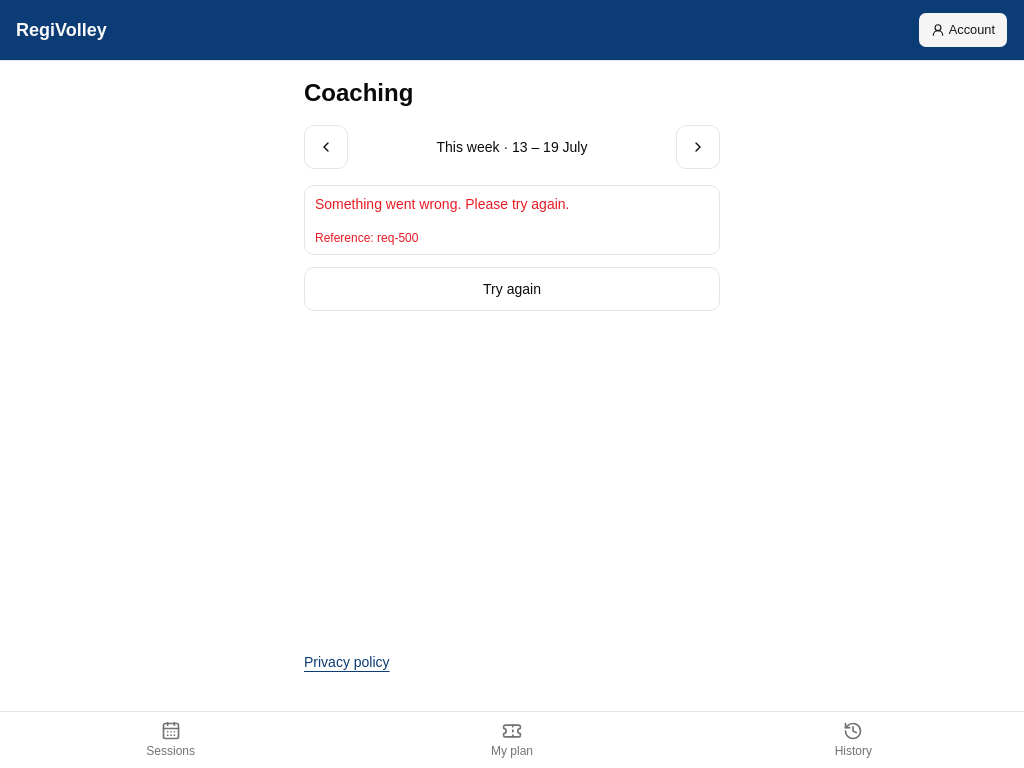
Test: the week › shows the API error with its reference and tries again on request
Expected: the message shows "Something went wrong", [315, 196, 570, 212]
Expected: the message shows "Reference: req-500", [304, 185, 720, 255]
Click the button "Try again". click: (512, 289)
box: [304, 267, 720, 311]
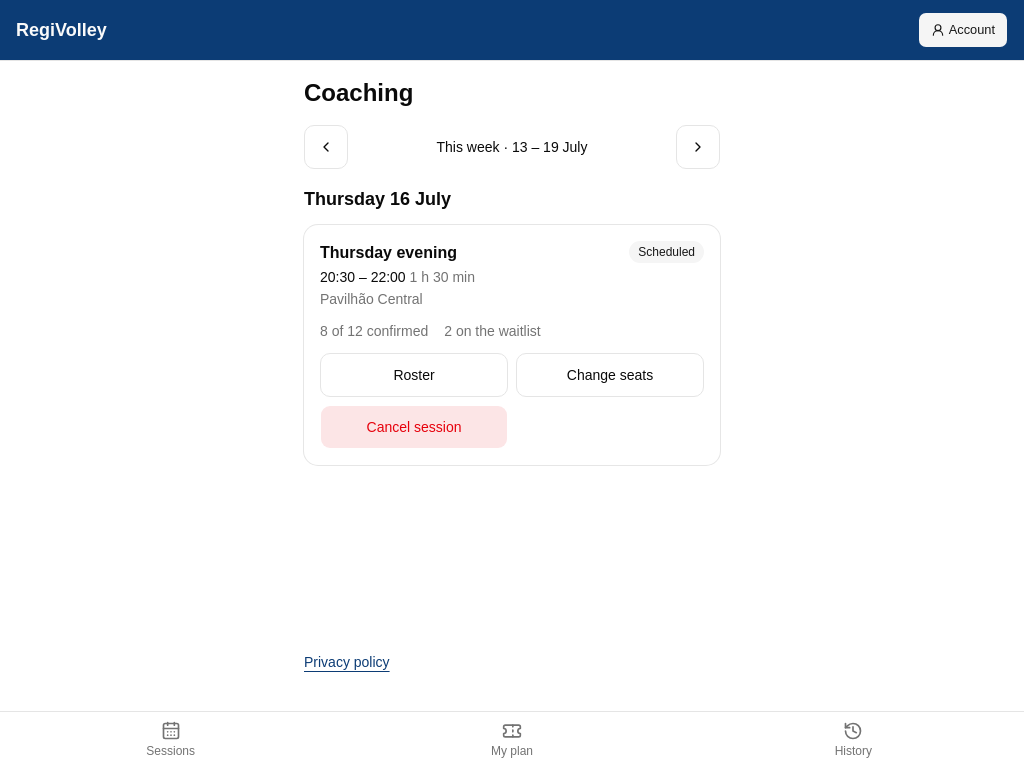
Expected: the element "Thursday evening" is shown, [304, 225, 720, 465]
